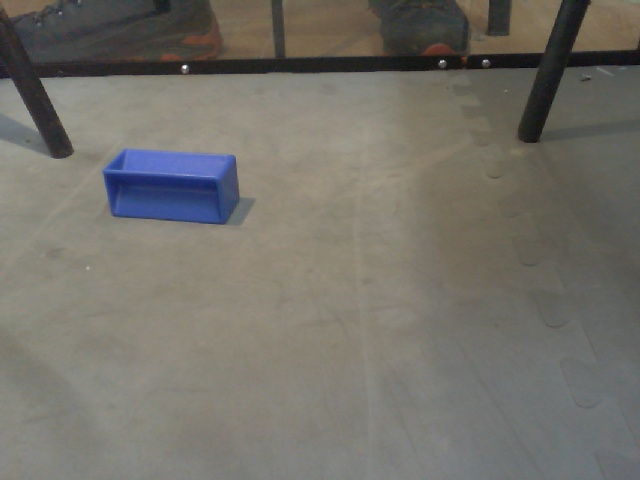BlueSample: (100, 146, 246, 228)
